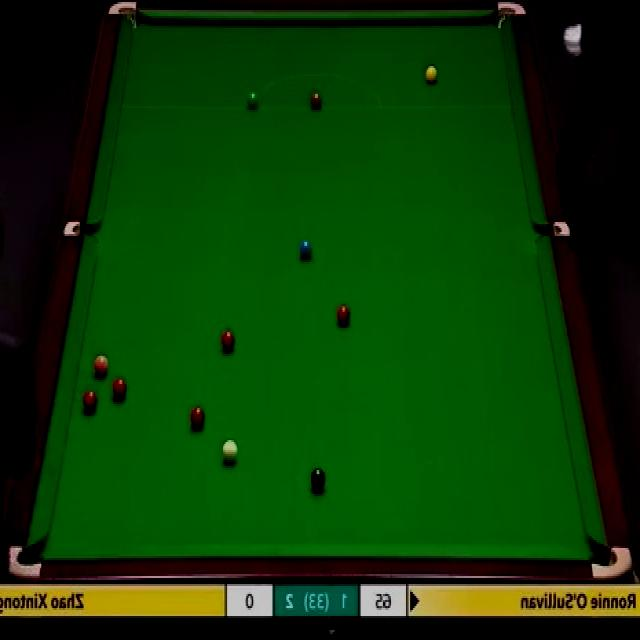black-ball: (311, 468, 324, 490)
blue-ball: (299, 236, 312, 262)
brown-ball: (309, 91, 323, 109)
green-ball: (245, 88, 260, 110)
pink-ball: (94, 355, 110, 377)
red-ball: (189, 407, 207, 432), (220, 330, 237, 352), (83, 389, 98, 411), (112, 376, 127, 396), (337, 303, 351, 324)
white-ball: (223, 438, 237, 468)
yellow-ball: (425, 66, 437, 85)
